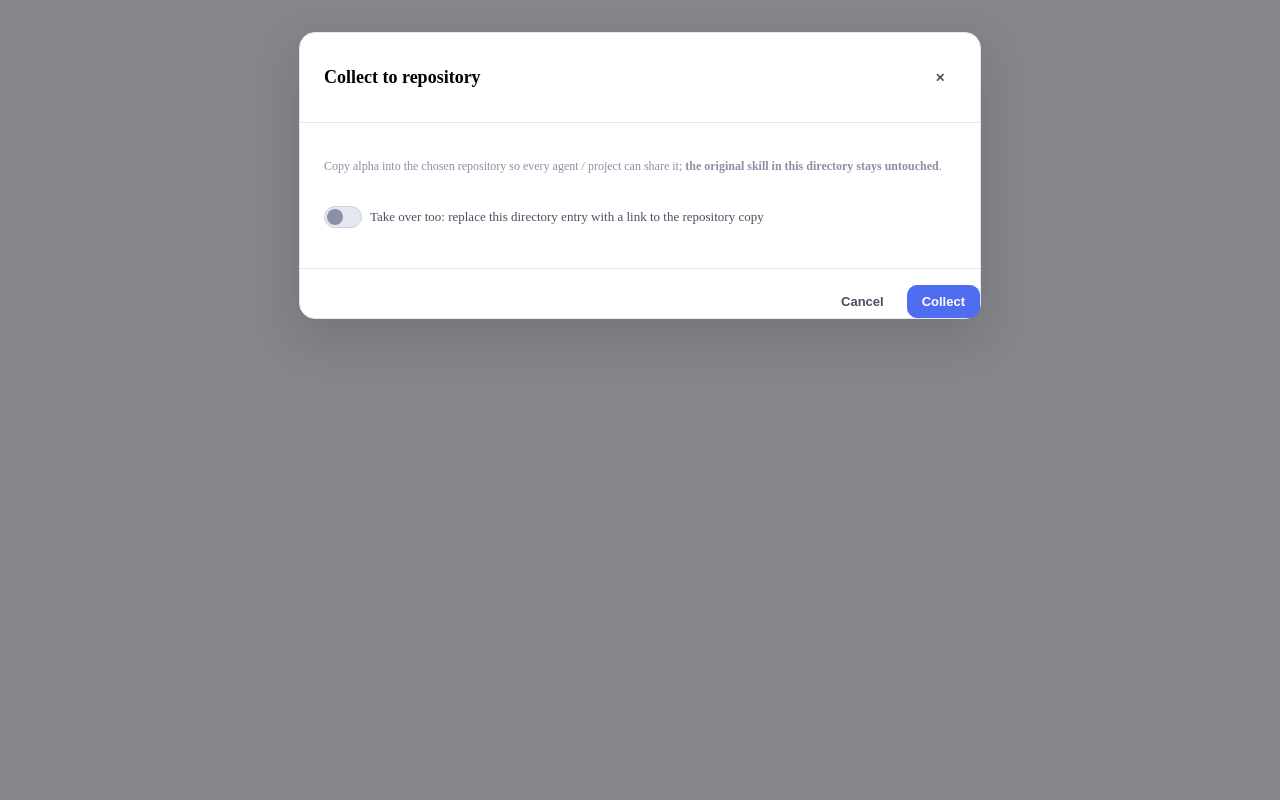
Test: CollectSkillModal › 归集未产生任何副本时提示原因
Click the button "Collect".
click(943, 302)  # box top-left (907, 285), bottom-right (980, 318)
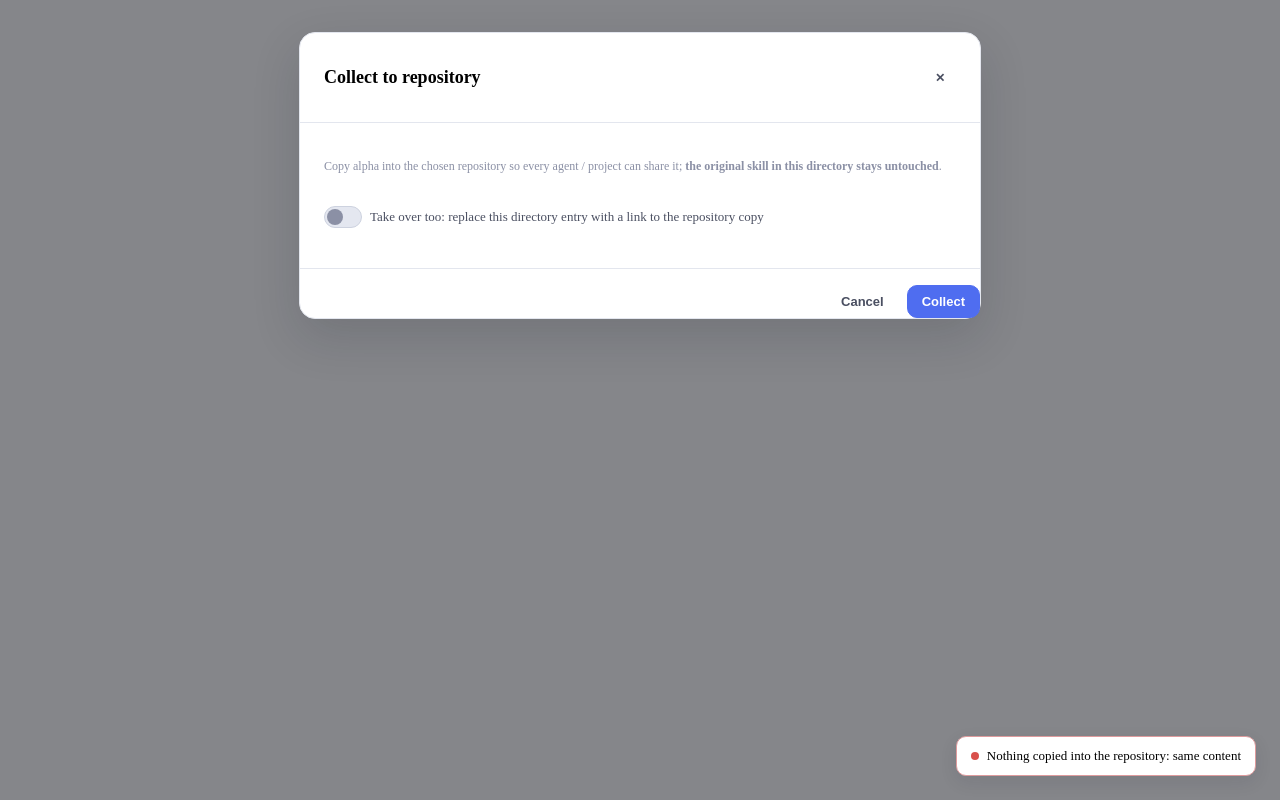
Expected: the text "Nothing copied into the repository: same content" is shown, top-left (987, 748), bottom-right (1241, 764)
